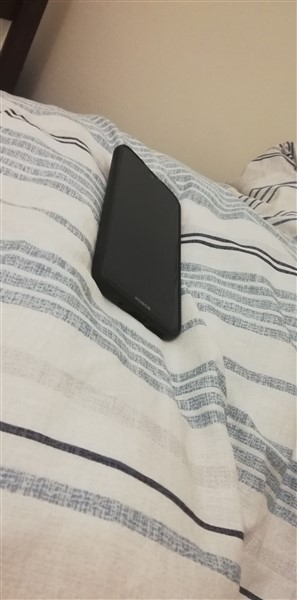telefon: (88, 139, 195, 348)
